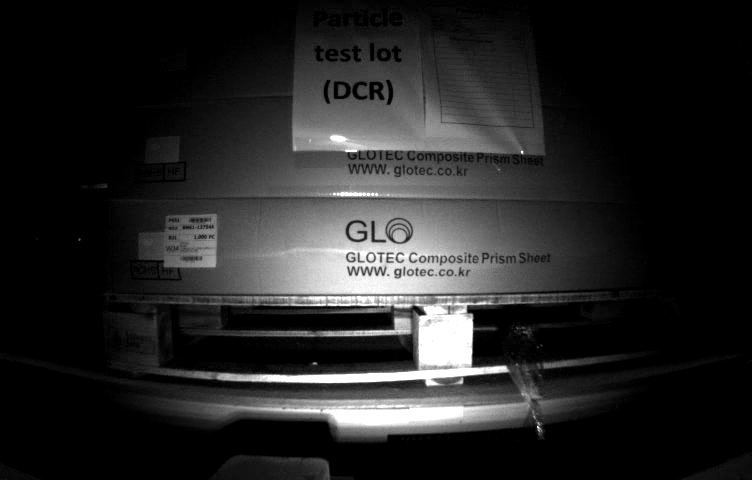True Barcode: (163, 210, 224, 274)
